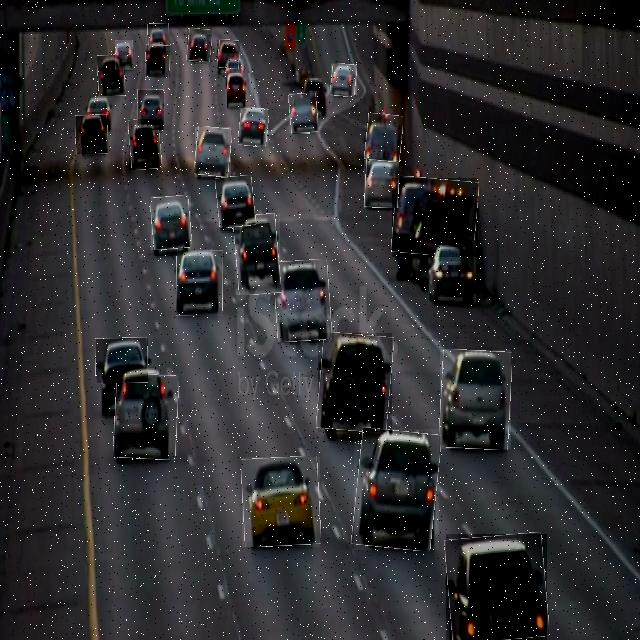Car: (446, 534, 547, 640), (354, 429, 439, 550), (318, 333, 392, 432), (440, 350, 511, 449), (242, 457, 320, 547), (114, 374, 178, 460), (275, 260, 331, 341), (235, 214, 280, 295), (428, 240, 476, 304), (177, 250, 223, 316), (96, 338, 148, 383), (151, 196, 191, 250), (216, 176, 256, 227), (195, 127, 231, 177), (365, 114, 402, 162), (364, 160, 399, 208), (129, 119, 161, 170), (76, 115, 108, 154), (289, 94, 318, 134), (97, 55, 125, 96), (137, 89, 164, 130), (240, 108, 268, 146), (228, 73, 254, 109), (187, 28, 212, 62), (331, 64, 357, 96), (146, 45, 170, 78), (217, 40, 240, 69), (115, 40, 133, 70), (148, 24, 169, 46)
Truck: (392, 178, 478, 257)
